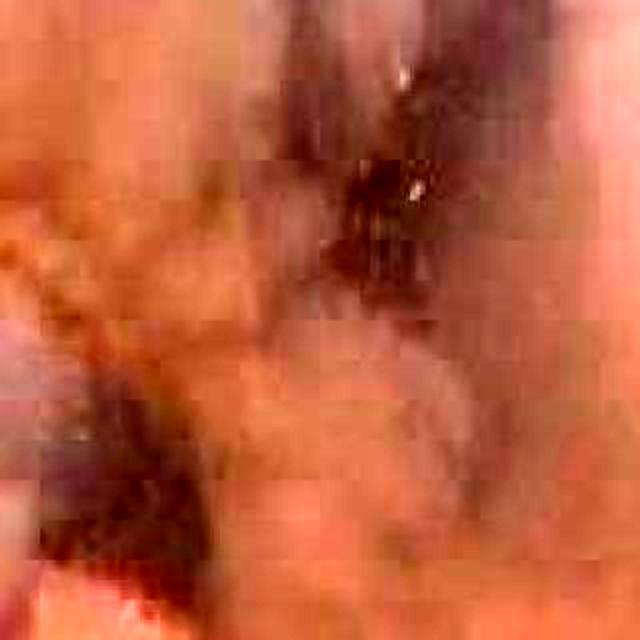smoke: (0, 162, 640, 640)
